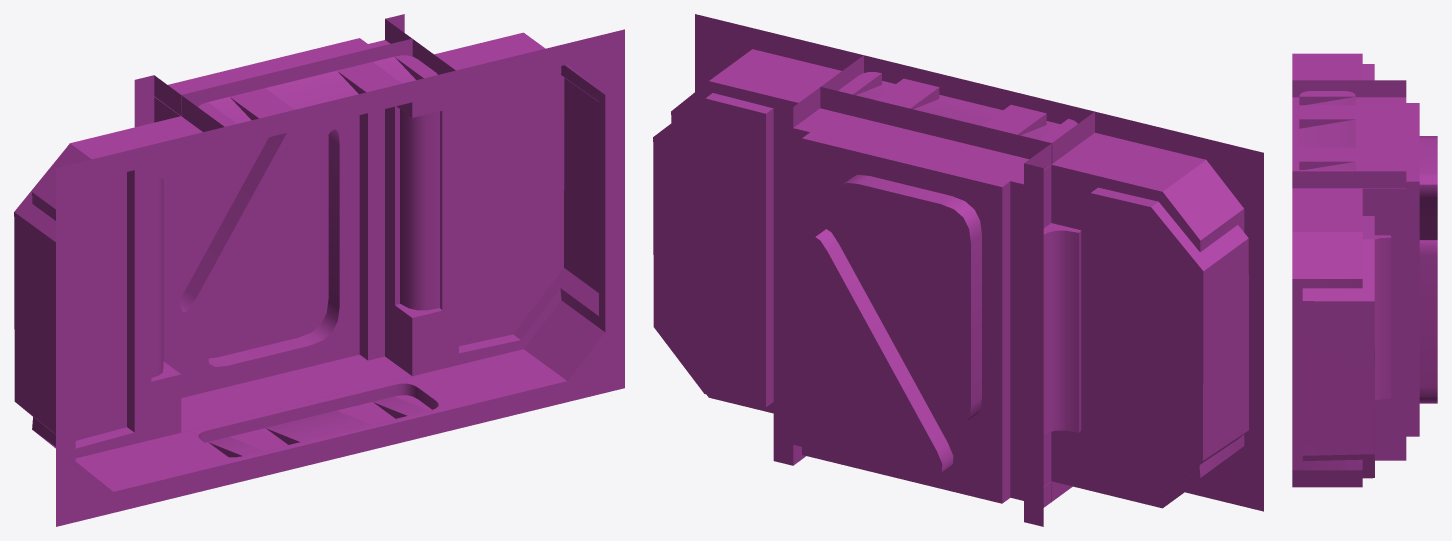
Rendered from CLow_Wall_A_End.FBX.
3 renders of one model, left to right at view 1: azimuth 30°, elevation 25°; view 2: azimuth 150°, elevation 25°; view 3: azimuth 270°, elevation 25°, orthographic. The views are drawn at different scales.
Parts seen in each view (by area): view 1: CLow_Wall_A_End; view 2: CLow_Wall_A_End; view 3: CLow_Wall_A_End.
Part boxes in pixels (x1,y1,x2,y2): CLow_Wall_A_End: [14, 14, 624, 526]; CLow_Wall_A_End: [653, 14, 1263, 526]; CLow_Wall_A_End: [1292, 53, 1437, 487].
Bounding box in the file's own units: 564 × 340 × 155.
